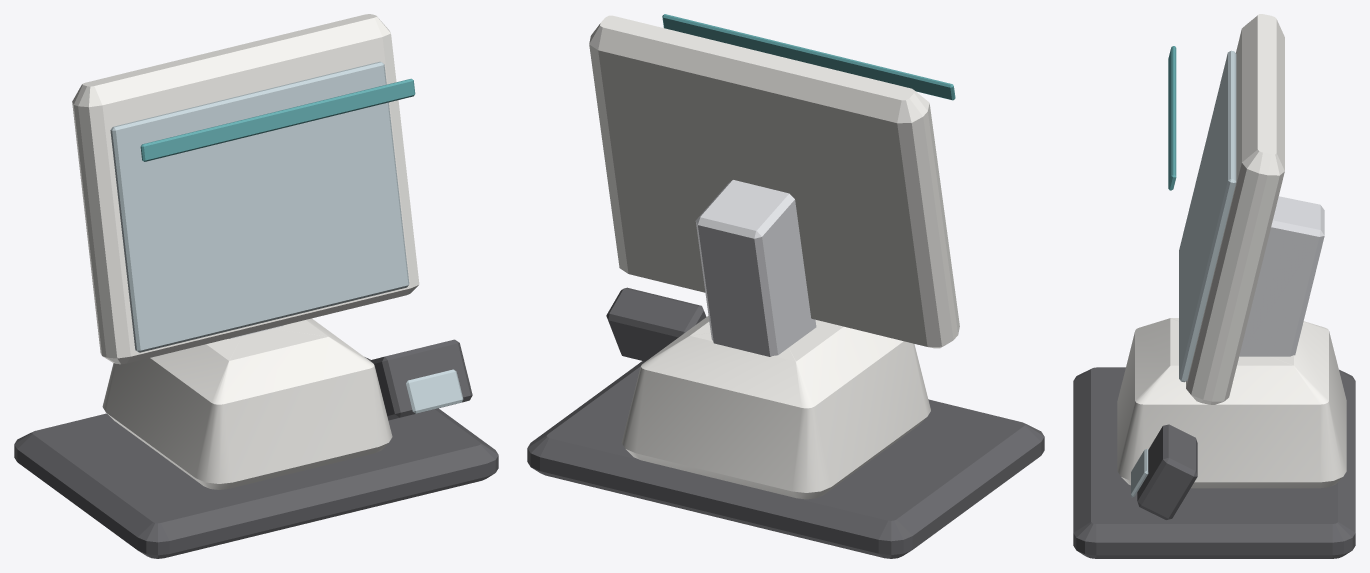
File: fast-food-and-drive-thru-self-order-kiosk-counter-c87ada48__16122.glb
The picture shows the model from 3 angles, left to right: view 1: azimuth 30°, elevation 25°; view 2: azimuth 150°, elevation 25°; view 3: azimuth 270°, elevation 25°; orthographic projection. The views are drawn at different scales.
Visible parts, largest first — view 1: self-order-kiosk-counter; view 2: self-order-kiosk-counter; view 3: self-order-kiosk-counter.
Part boxes in pixels (x1,y1,x2,y2): self-order-kiosk-counter: (14,14,498,558); self-order-kiosk-counter: (527,14,1044,558); self-order-kiosk-counter: (1073,14,1355,558).
Bounding box in the file's own units: 0.46 × 0.4947 × 0.32.
